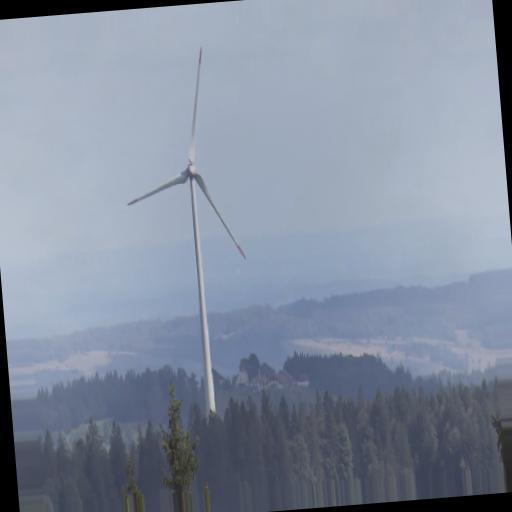wind turbine: (126, 47, 247, 425)
